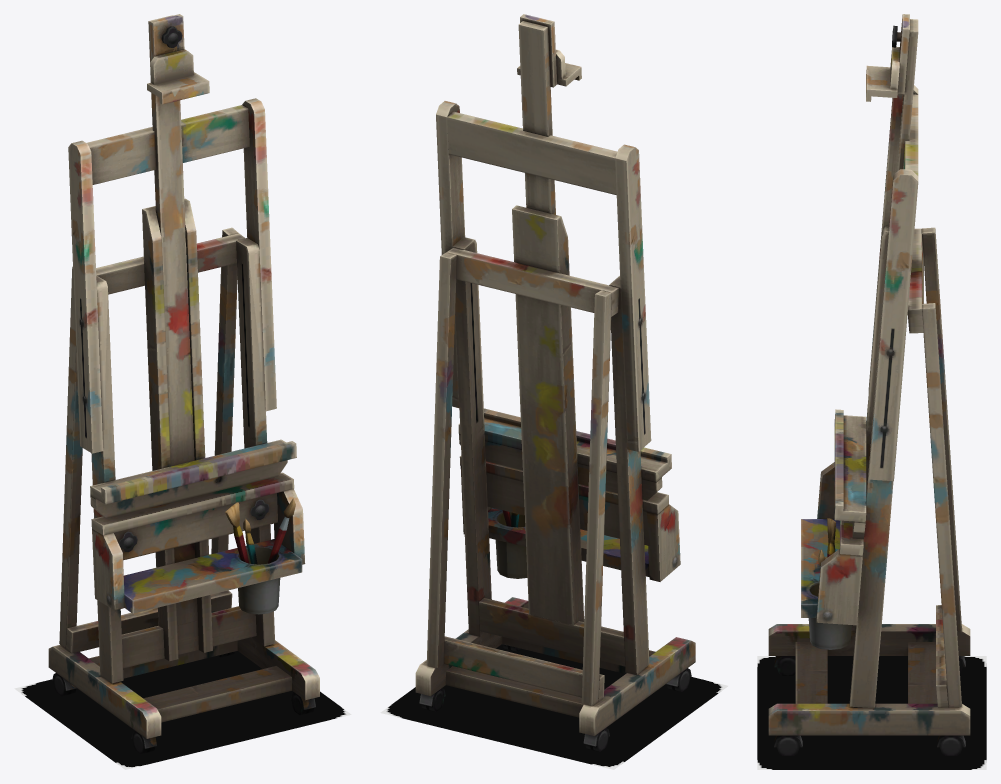
The model's file is jj_ty_huajia03.FBX.
3 renders of one model, left to right at view 1: azimuth 30°, elevation 25°; view 2: azimuth 150°, elevation 25°; view 3: azimuth 270°, elevation 25°, orthographic. The views are drawn at different scales.
Parts seen in each view (by area): view 1: jj_ty_huajia01_01, shadow; view 2: jj_ty_huajia01_01, shadow; view 3: jj_ty_huajia01_01, shadow.
Boxes of the visible parts, <box> form: jj_ty_huajia01_01: <box>48,14,319,753</box>; shadow: <box>14,651,351,769</box>; jj_ty_huajia01_01: <box>415,14,695,751</box>; shadow: <box>380,644,727,769</box>; jj_ty_huajia01_01: <box>768,14,970,755</box>; shadow: <box>757,656,986,769</box>.
Size of the model in its own units: 40.58 by 115 by 34.53.
